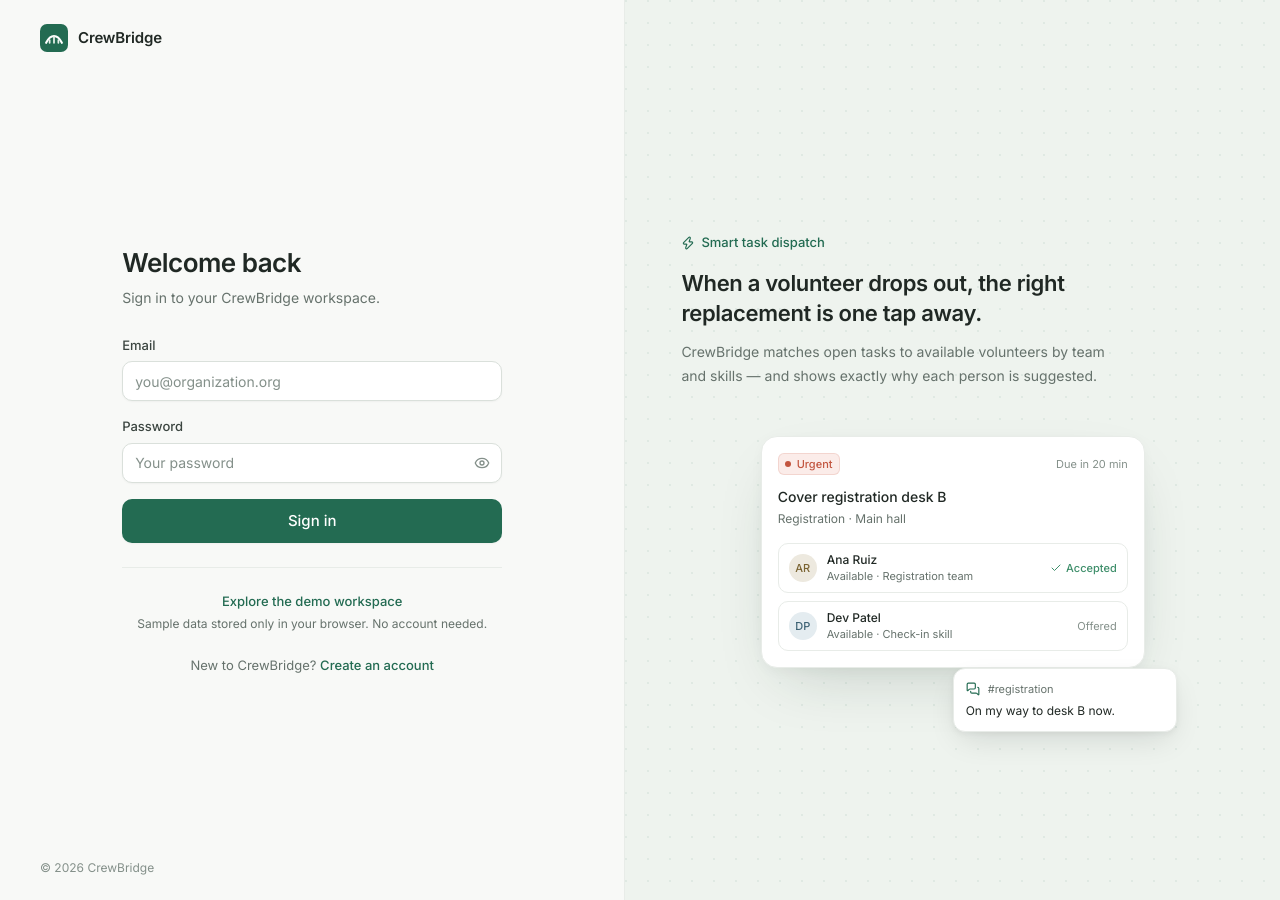
Test case: workspace selection › opens the demo workspace from the sign-in page
Click the button "Explore the demo workspace" at (312, 602), box [222,592,402,611]
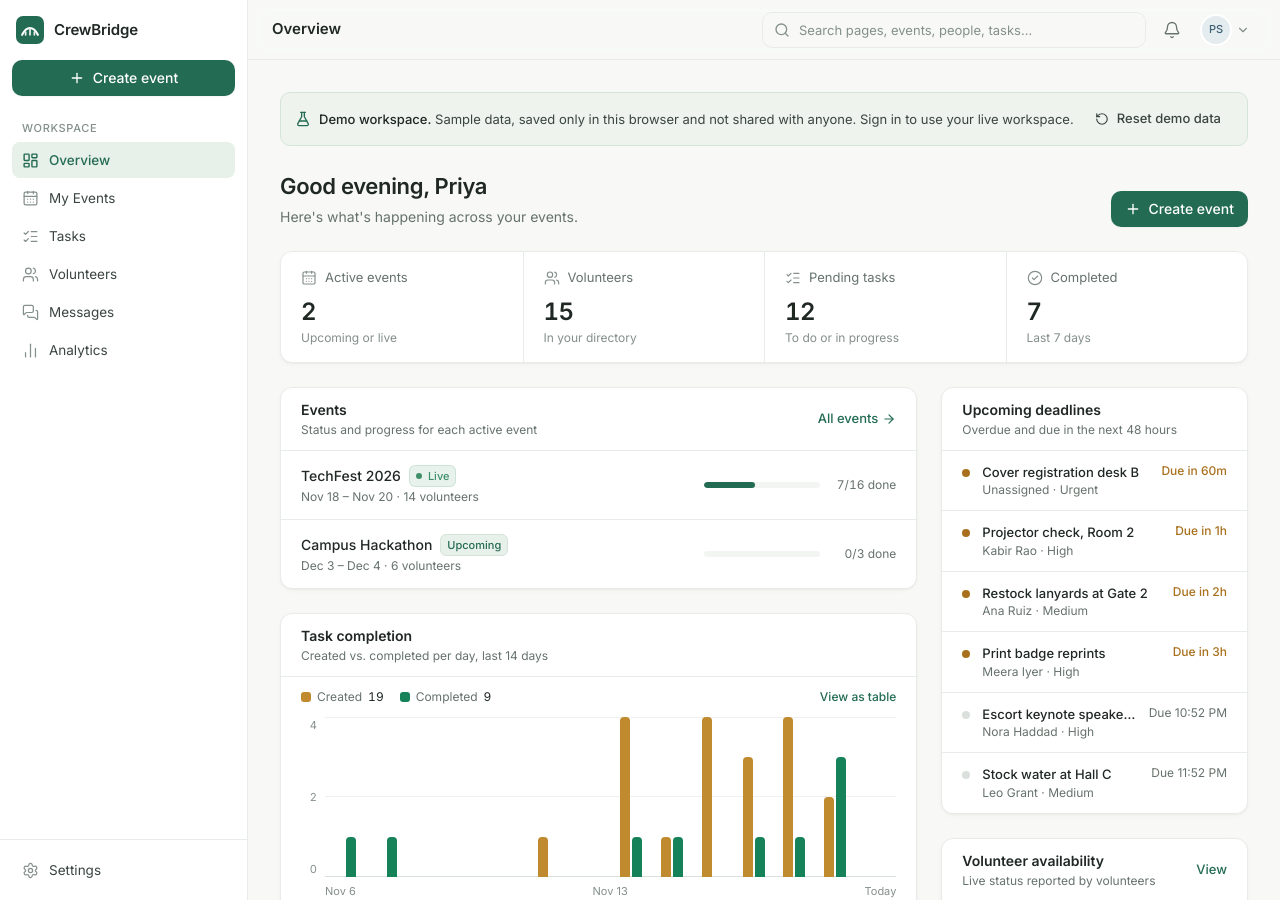
expect the text "Demo workspace." is shown: met, box [319,111,431,127]
